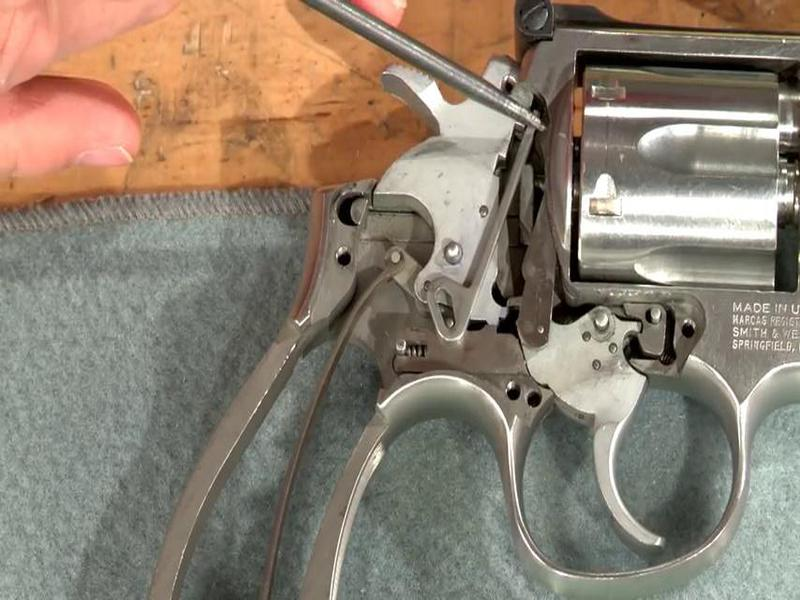Revolver: (152, 26, 800, 552)
